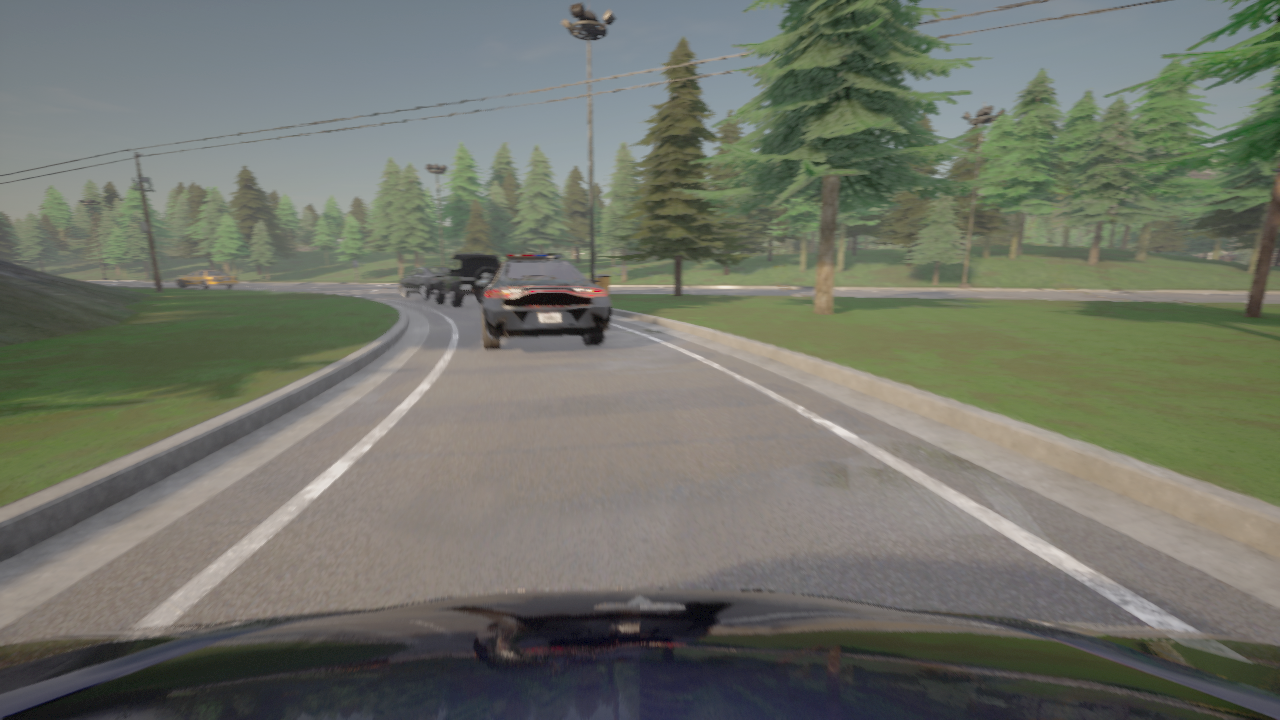cyclist: (0, 588, 1279, 719), (476, 254, 610, 350), (434, 253, 500, 307), (400, 266, 448, 300), (176, 268, 238, 288)
